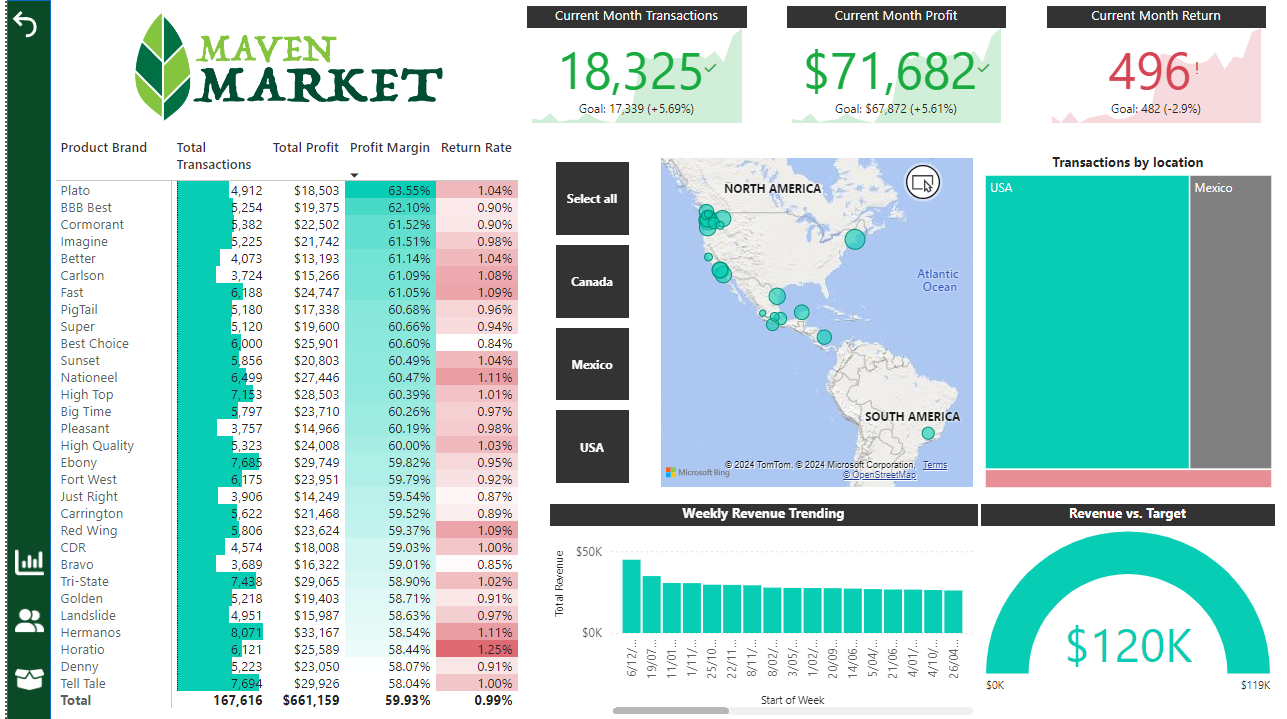

Layout of this report page (visuals, bound fields, positions):
{"tool":"powerbi","page":{"name":"Topline Performance","canvas":[1280,720],"ordinal":0},"visuals":[{"type":"shape","box":[0,0,44.4,720],"z":0},{"type":"actionButton","box":[4.1,542.2,36.7,40],"z":0,"group":"g1"},{"type":"image","box":[72.2,0,416.7,133.3],"z":1000},{"type":"actionButton","box":[4.1,600.5,36.7,40],"z":1000,"group":"g1"},{"type":"actionButton","box":[4.1,658.9,36.7,40],"z":2000,"group":"g1"},{"type":"pivotTable","fields":{"Rows":["Products.product_brand"],"Values":["Measure Table.Total Transactions","Measure Table.Total Profit","Measure Table.Profit Margin","Measure Table.Return Rate"]},"box":[44.4,133.3,473.3,586.7],"z":2000},{"type":"kpi","title":"Current Month Transactions","fields":{"Indicator":["Measure Table.Total Transactions"],"TrendLine":["Calendar.Start of Month"],"Goal":["Measure Table.Last Month Transactions"]},"box":[520,5.6,220,122.2],"z":3000},{"type":"kpi","title":"Current Month Profit","fields":{"TrendLine":["Calendar.Start of Month"],"Indicator":["Measure Table.Total Profit"],"Goal":["Measure Table.Last Month Profit"]},"box":[780,5.6,218.9,122.2],"z":4000},{"type":"kpi","title":"Current Month Return","fields":{"TrendLine":["Calendar.Start of Month"],"Indicator":["Measure Table.Total Returns"],"Goal":["Measure Table.Last Month Returns"]},"box":[1040,5.6,218.9,122.2],"z":5000},{"type":"map","fields":{"Size":["Measure Table.Total Transactions"],"Category":["Stores.store_city"]},"box":[648.9,153.3,322.2,338.9],"z":6000},{"type":"slicer","fields":{"Values":["Stores.store_country"]},"box":[520,152.2,128.9,341.1],"z":7000},{"type":"columnChart","title":"Weekly Revenue Trending","fields":{"Category":["Calendar.Start of Week"],"Y":["Measure Table.Total Revenue"]},"box":[543.3,504.4,427.8,215.6],"z":8000},{"type":"treemap","title":"Transactions by location","fields":{"Group":["Stores.store_country","Stores.store_state","Stores.store_city"],"Values":["Measure Table.Total Transactions"]},"box":[972.5,153.1,297.3,339.4],"z":9000},{"type":"gauge","title":"Revenue vs. Target","fields":{"Y":["Measure Table.Total Revenue"],"MaxValue":["Measure Table.Revenue Target"]},"box":[974.3,504.2,293.7,205.1],"z":10000},{"type":"actionButton","box":[0,5.6,41.1,36.7],"z":11000},{"type":"group","id":"g1","title":"Navigation Button","box":[4.1,542.2,36.7,156.7],"z":12000}]}

Visuals, with their boxes on the page's 1280x720 design canvas (x1, y1, x2, y2). These are canvas units, not pixel positions in the 1287x719 screenshot, which may show the page scaled, cropped or inside an application window:
shape: crop(0, 0, 44, 720)
actionButton: crop(4, 542, 41, 582)
image: crop(72, 0, 489, 133)
actionButton: crop(4, 600, 41, 640)
actionButton: crop(4, 659, 41, 699)
pivotTable - Products.product_brand x Measure Table.Total Transactions: crop(44, 133, 518, 720)
"Current Month Transactions" kpi: crop(520, 6, 740, 128)
"Current Month Profit" kpi: crop(780, 6, 999, 128)
"Current Month Return" kpi: crop(1040, 6, 1259, 128)
map - Measure Table.Total Transactions x Stores.store_city: crop(649, 153, 971, 492)
slicer - Stores.store_country: crop(520, 152, 649, 493)
"Weekly Revenue Trending" columnChart: crop(543, 504, 971, 720)
"Transactions by location" treemap: crop(972, 153, 1270, 492)
"Revenue vs. Target" gauge: crop(974, 504, 1268, 709)
actionButton: crop(0, 6, 41, 42)
"Navigation Button" group: crop(4, 542, 41, 699)
